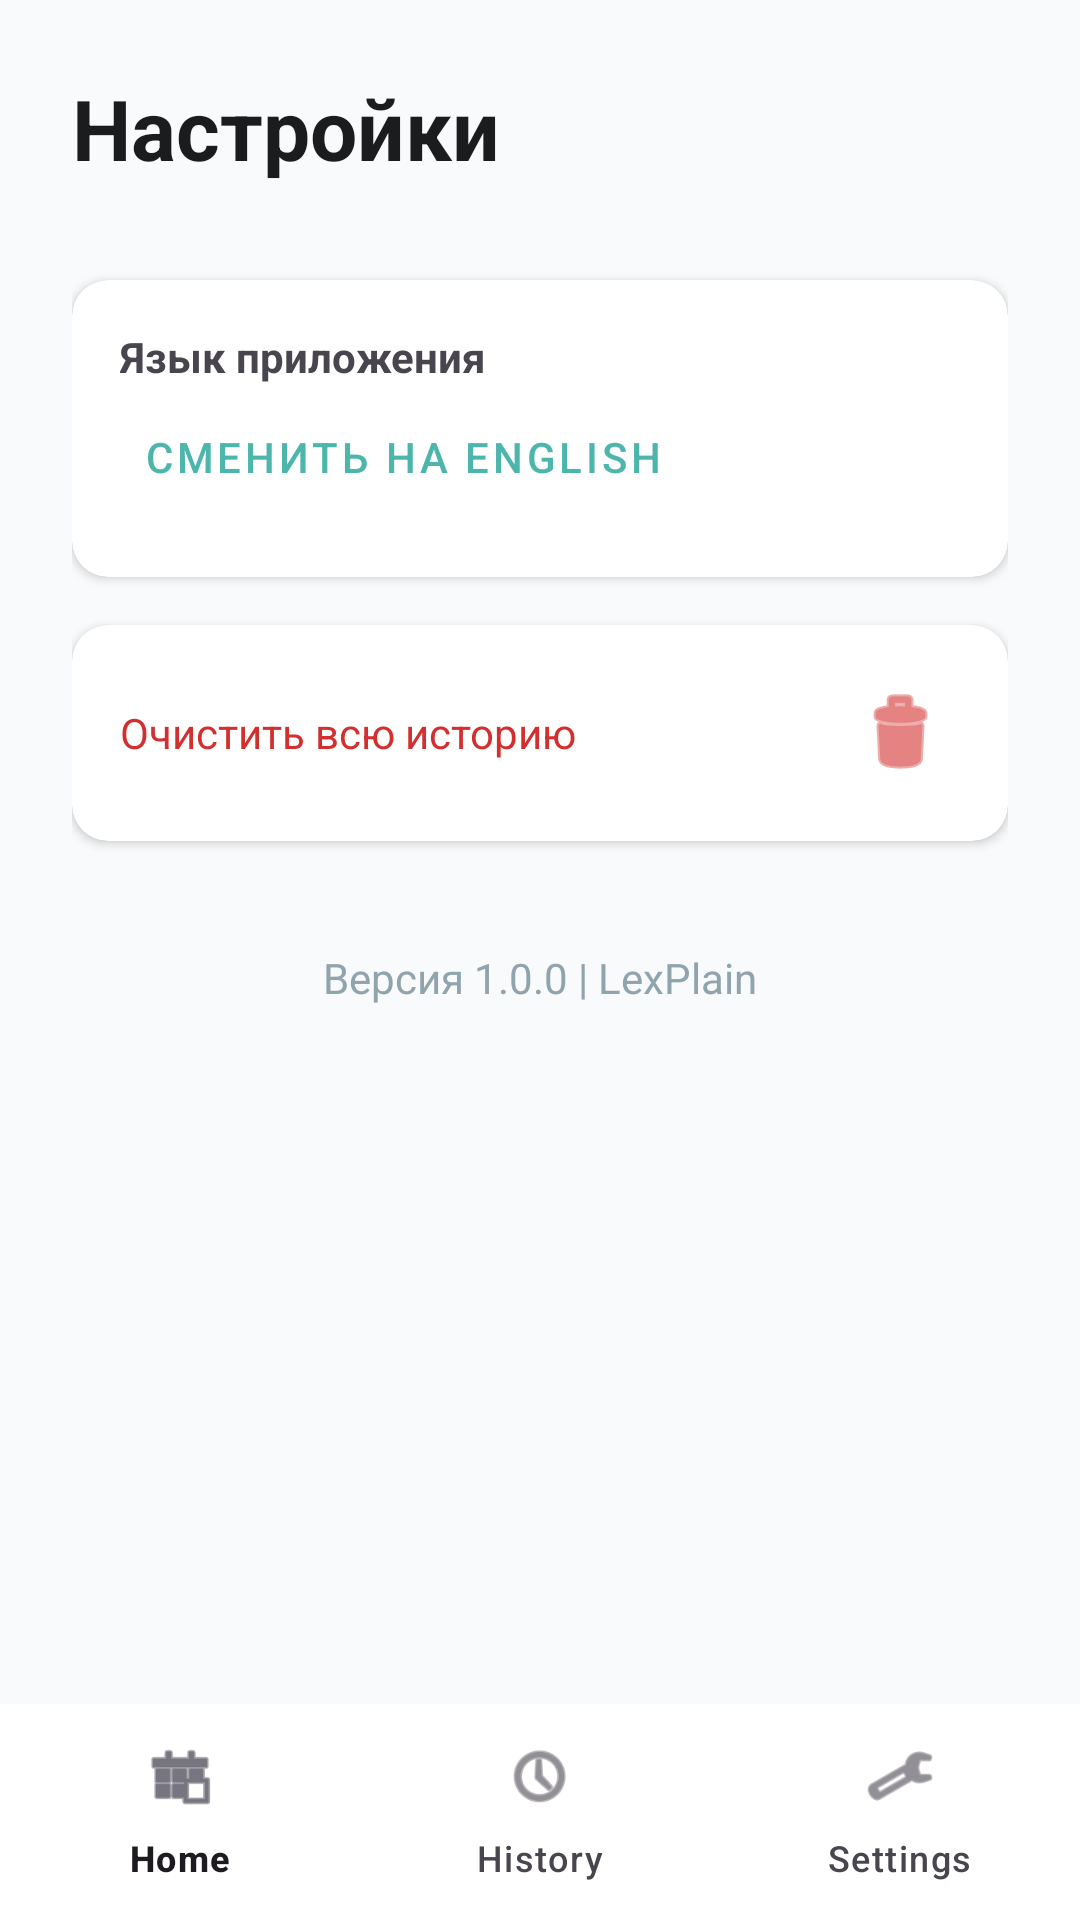

Where to tap for icons on this 1080x1920 app screen, as (x=x, y=y):
delete: (x=900, y=731)
